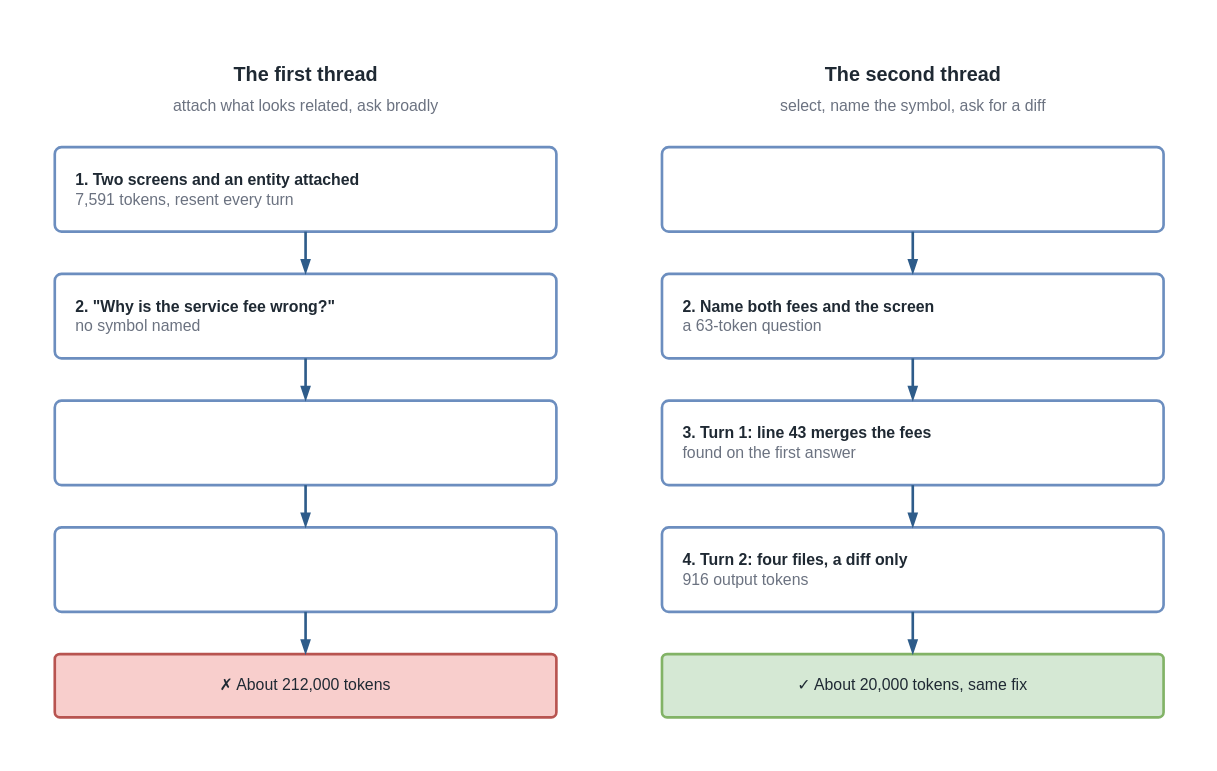
This 1217x771 diagram has some shape labels left out. Each missing label, with the centre of its shape:
1. Select createOrder and the fee getters 381 tokens: (x=912, y=188)
3. Twelve turns of guessing the merge sits in a file never attached: (x=305, y=442)
4. "Rewrite the four files" 7,279 output tokens for 15 changed lines: (x=305, y=568)
